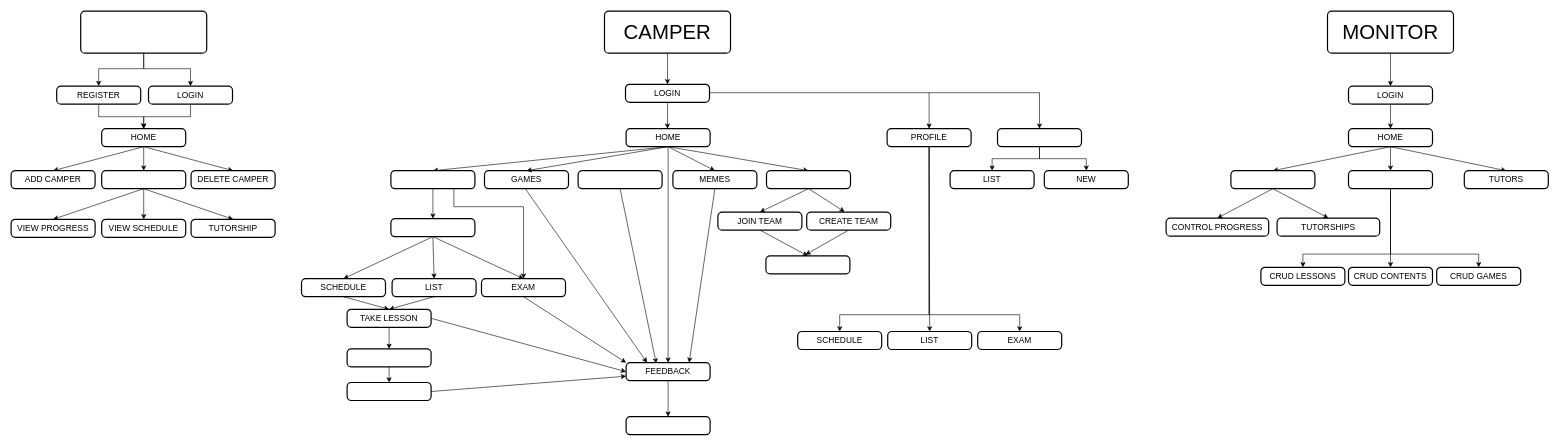
The diagram is 1559 pixels wide and 445 high, and some of its shapes have lost their labels. The shapes that lost their labels are listed below. From the top down, each one's centre as x and y in pixels, then its label:
At point (143, 31): "TUTOR".
At point (1039, 137): "CHAT".
At point (143, 179): "VIEW CAMPERS".
At point (432, 179): "COURSE".
At point (619, 179): "COMICS".
At point (808, 179): "TEAMS".
At point (1272, 179): "CAMPERS".
At point (1390, 179): "ADMIN AREA".
At point (432, 227): "LESSONS".
At point (807, 264): "PROFILE TEAM".
At point (388, 357): "BETA GAME".
At point (388, 391): "RATTING".
At point (667, 425): "SCORE".
